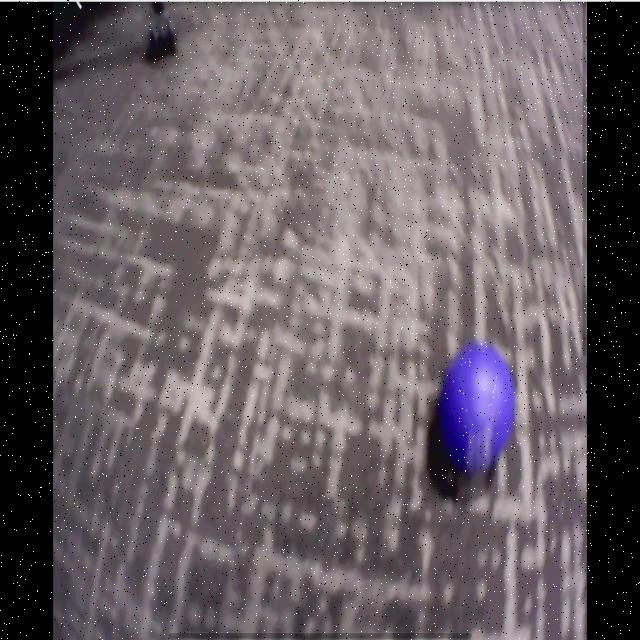ball: (440, 344, 515, 469)
